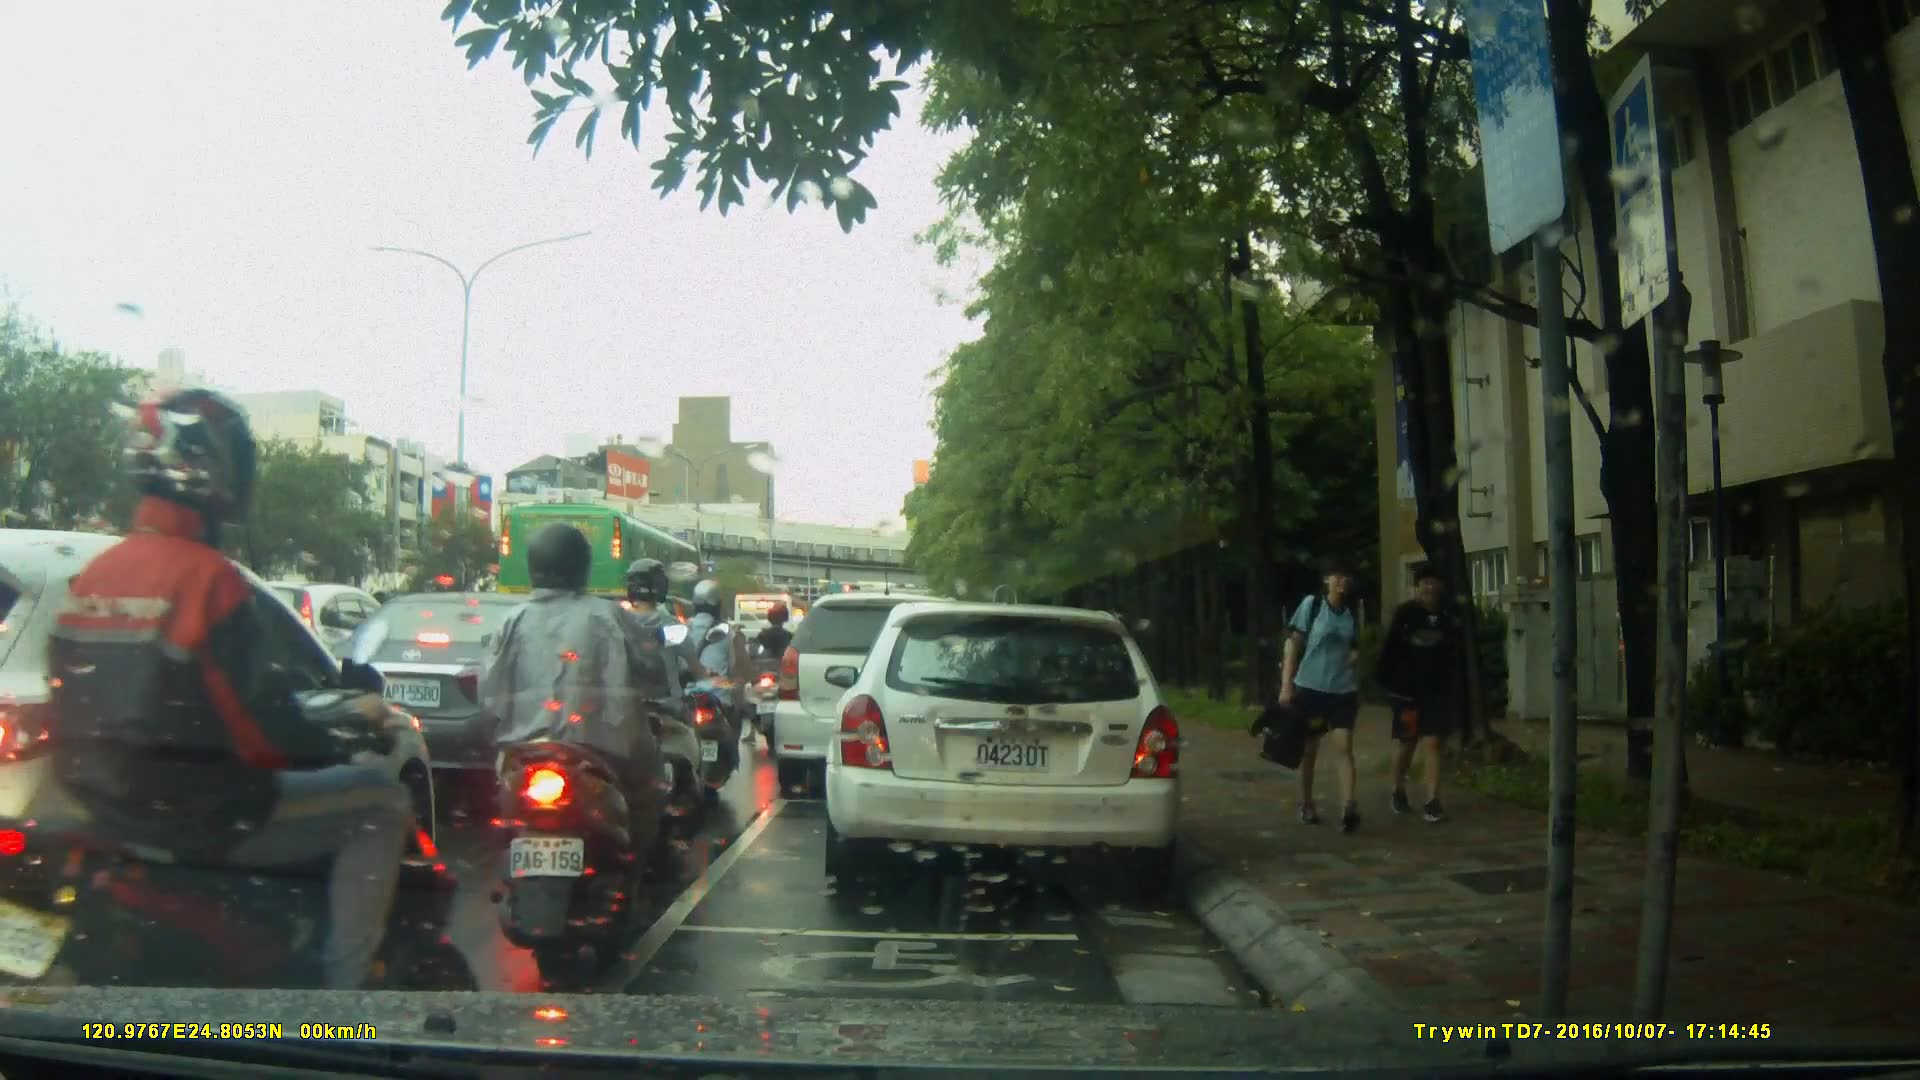pedestrian: (1264, 549, 1380, 836), (1390, 554, 1476, 825)
rider: (4, 386, 451, 1080), (478, 530, 690, 946), (596, 562, 713, 847), (672, 579, 751, 793), (750, 601, 804, 748)
vehicle: (1, 528, 451, 988), (831, 592, 1196, 897), (317, 590, 627, 792), (770, 591, 999, 803), (495, 500, 707, 636)
